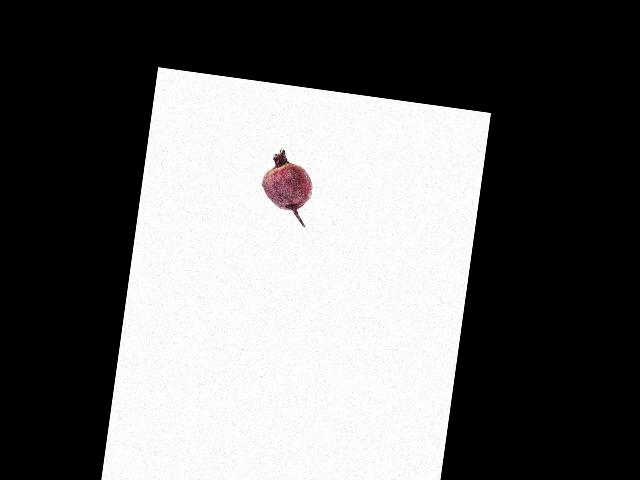beet: (257, 146, 317, 227)
